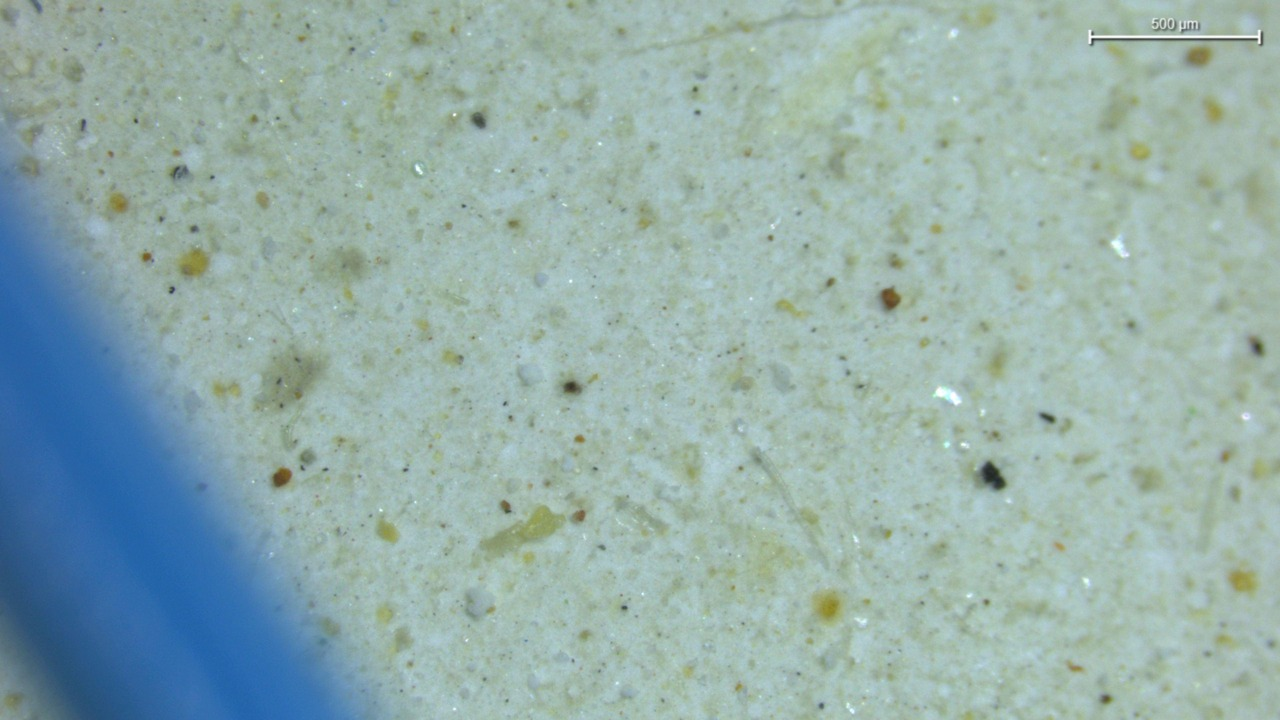microplastic_fragment: (465, 587, 494, 620), (516, 364, 543, 386)
